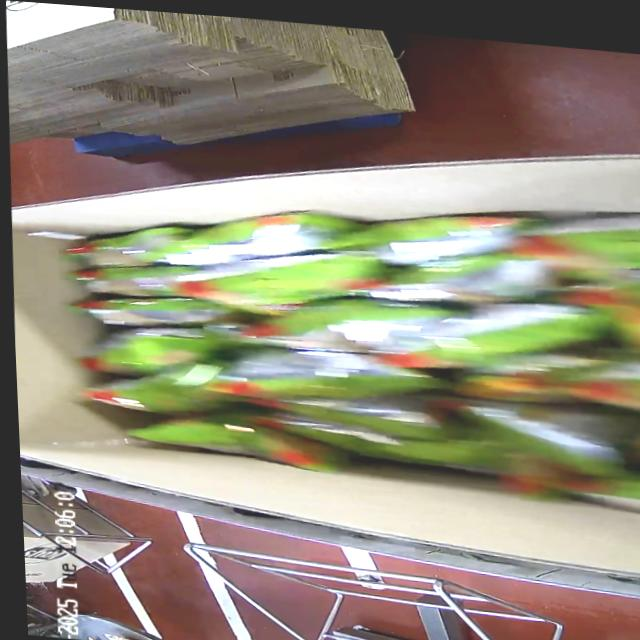YOGURT_HERB: (59, 161, 640, 497)
